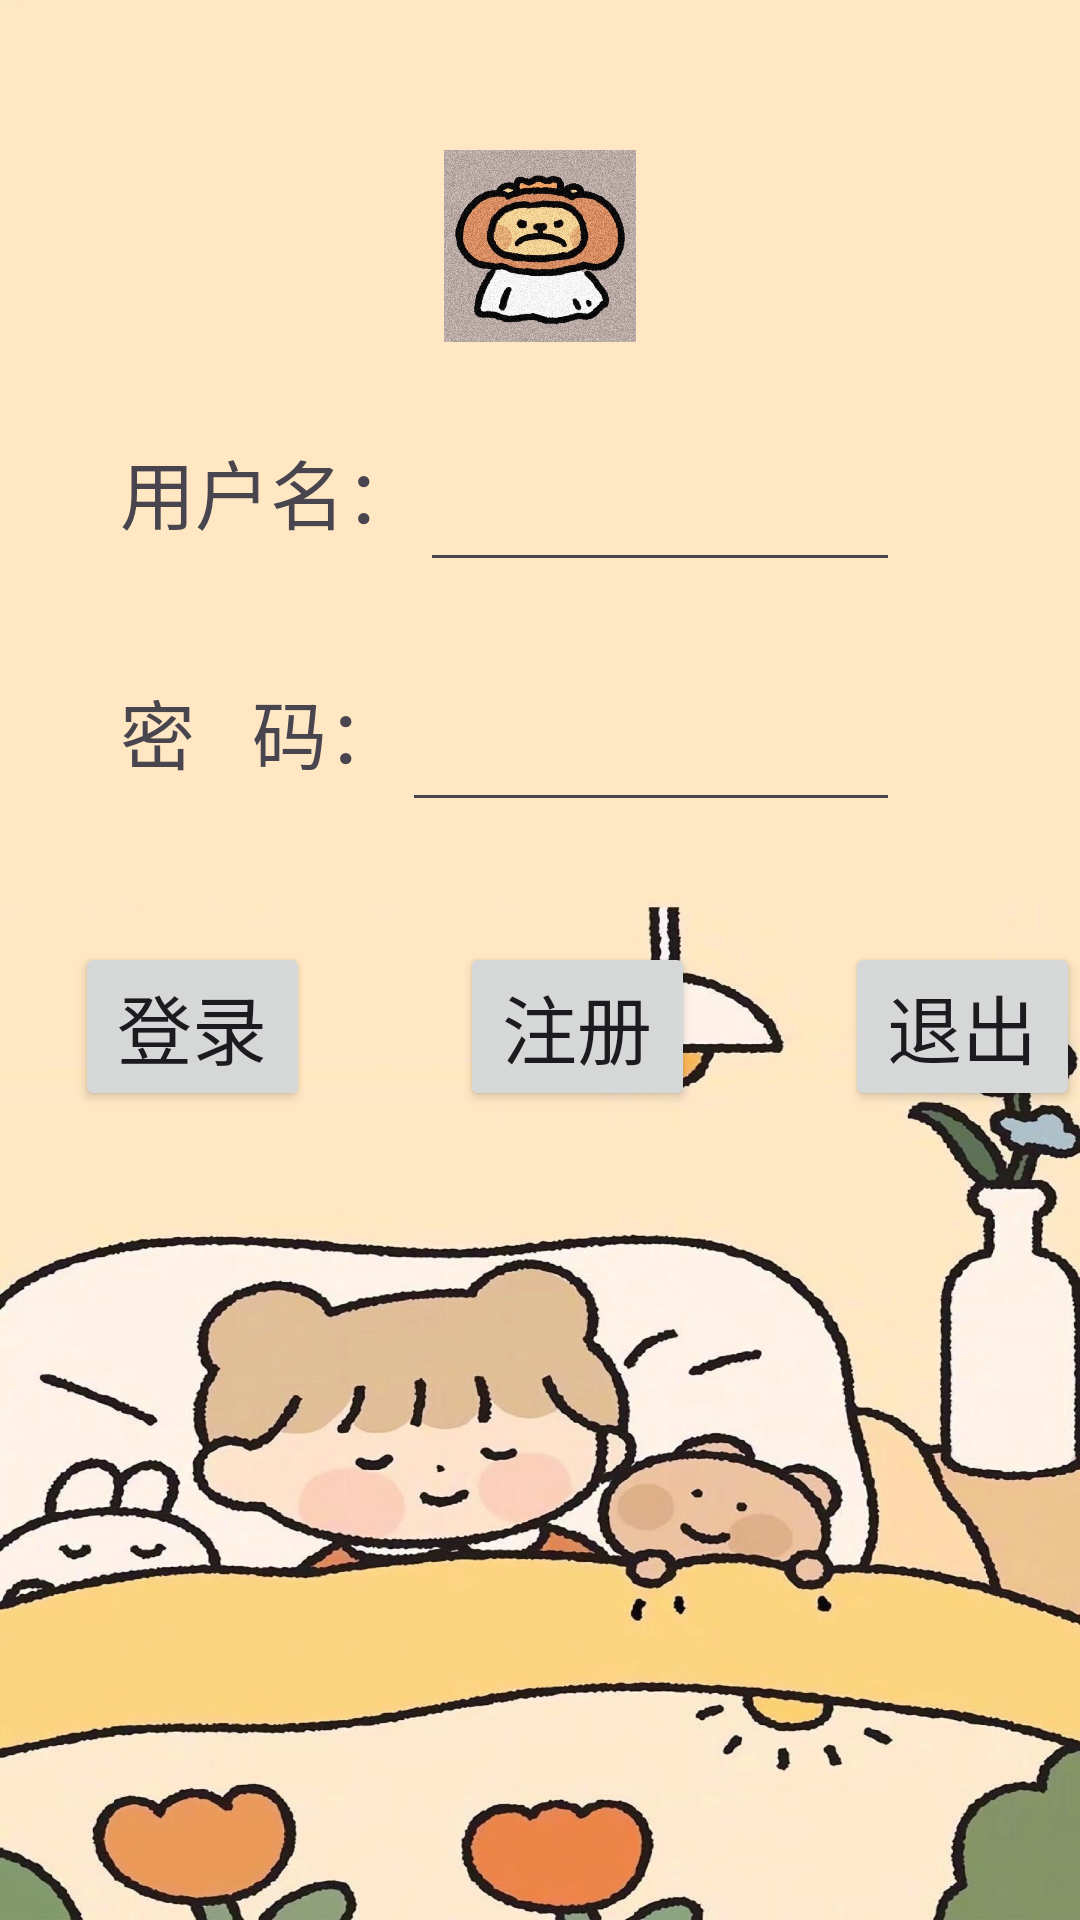

Where to tap for icons on this 1080 x 1920 app screen, as (x=x, y=y):
loghead: (x=540, y=246)
